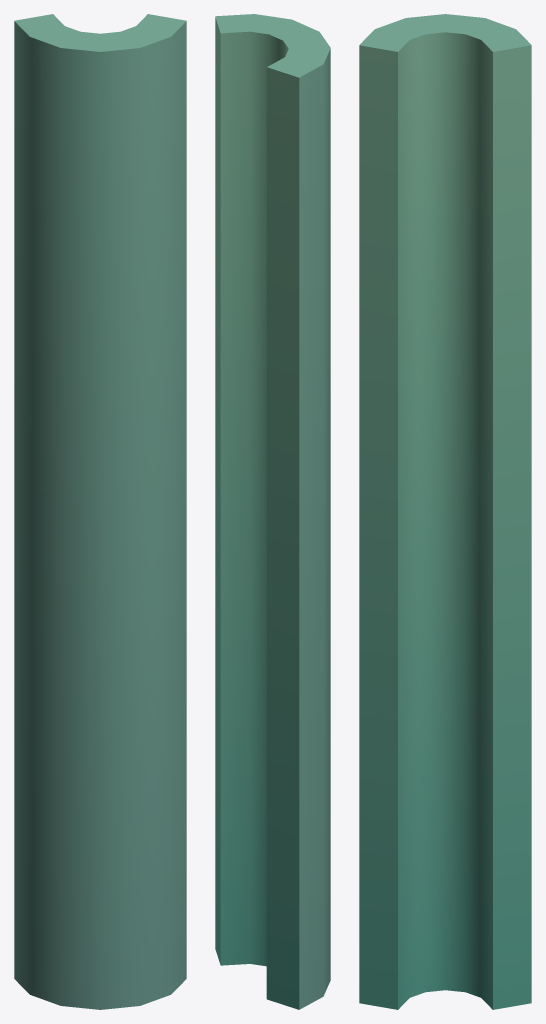
File: celery-stick.glb
3 views of the same model, side by side, from view 1: azimuth 90°, elevation 25°; view 2: azimuth 210°, elevation 25°; view 3: azimuth 270°, elevation 25° (orthographic). The views are drawn at different scales.
Visible parts, largest first — view 1: celery-stick; view 2: celery-stick; view 3: celery-stick.
Part boxes in pixels (left/top/right/bottom): celery-stick: left=14, top=14, right=186, bottom=1009; celery-stick: left=215, top=14, right=330, bottom=1009; celery-stick: left=359, top=14, right=531, bottom=1009.
Bounding box in the file's own units: 0.046 × 0.54 × 0.0882.
